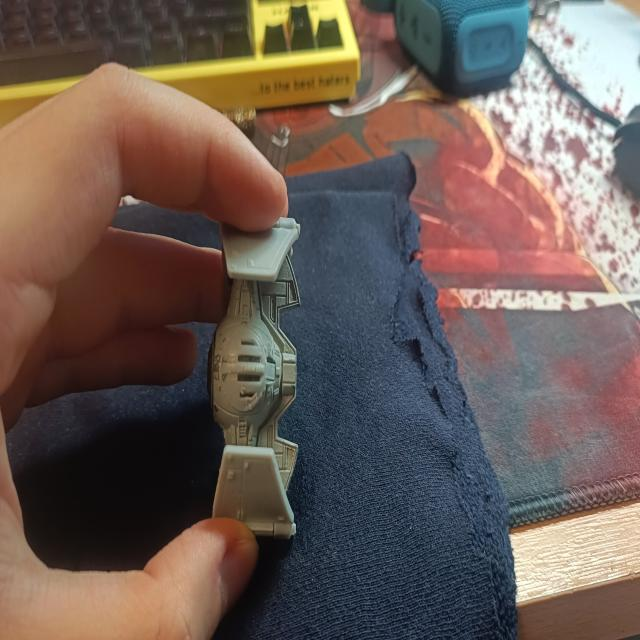column JBL: (392, 1, 531, 98)
tie fighter: (205, 205, 305, 540)
